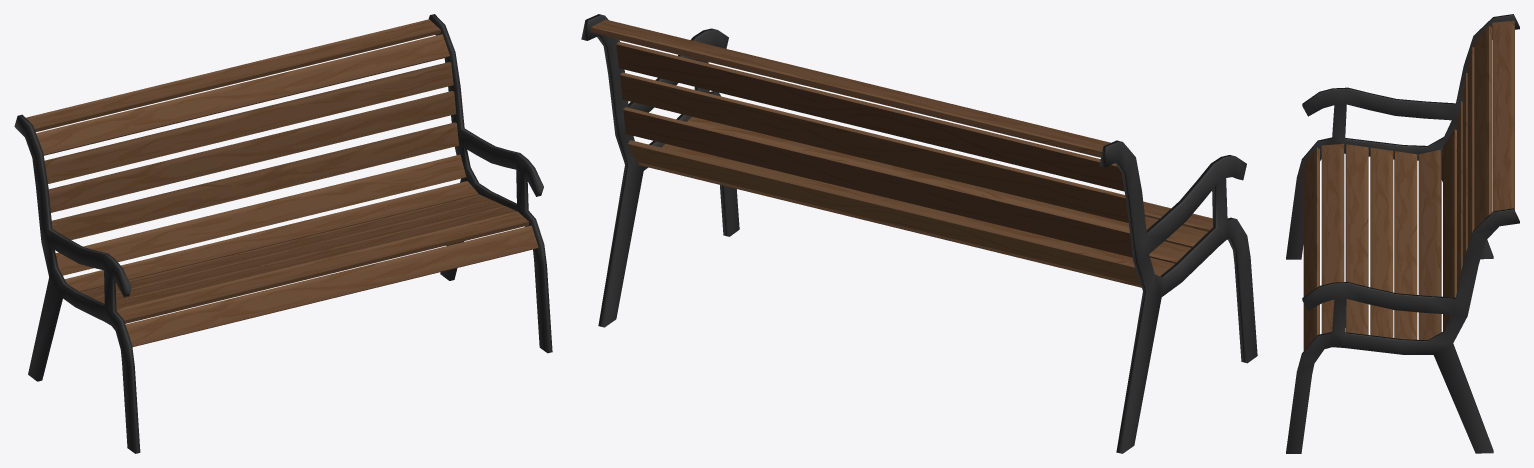
The model's file is bench.fbx.
The picture shows the model from 3 angles, left to right: view 1: azimuth 30°, elevation 25°; view 2: azimuth 150°, elevation 25°; view 3: azimuth 270°, elevation 25°; orthographic projection. The views are drawn at different scales.
Parts seen in each view (by area): view 1: Bench_wood; view 2: Bench_wood; view 3: Bench_wood.
Part boxes in pixels (<box>): Bench_wood: <box>14,14,552,453</box>; Bench_wood: <box>581,14,1257,453</box>; Bench_wood: <box>1286,14,1519,453</box>.
Size of the model in its own units: 3.1 by 1.79 by 1.56.
